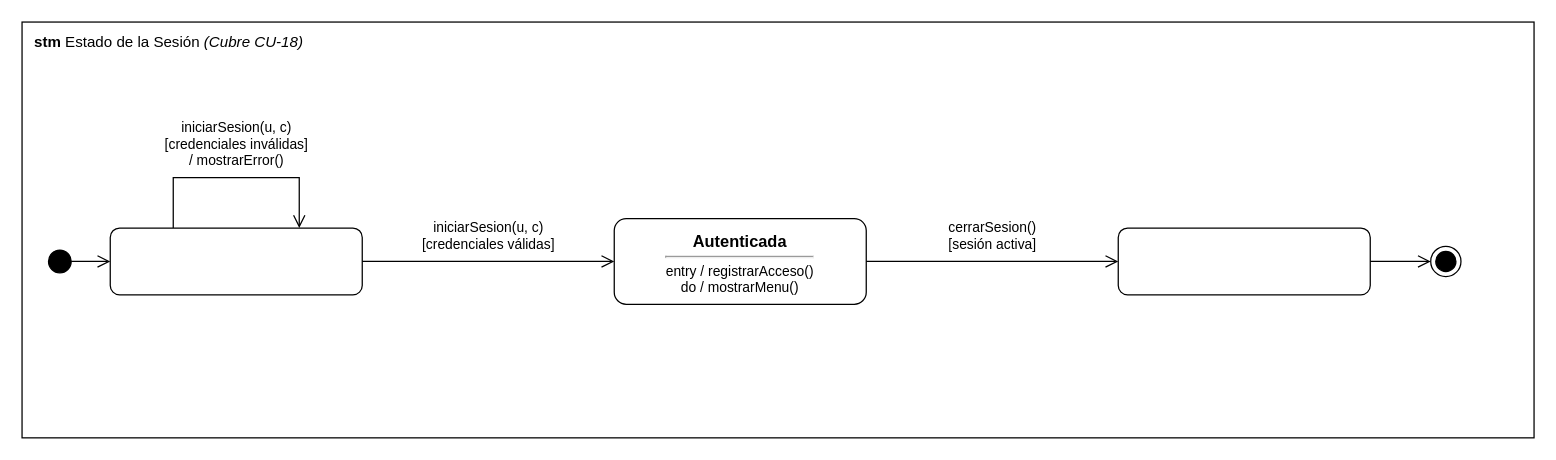
The diagram is 1556 pixels wide and 460 high, and some of its shapes have lost their labels. The shapes that lost their labels are listed below. From the top down, each one's centre as x and y in pixels, then its label:
At pixel 235 261: "Inactiva entry / limpiarCampos()".
At pixel 1243 261: "Cerrada entry / cerrarSesion()".
